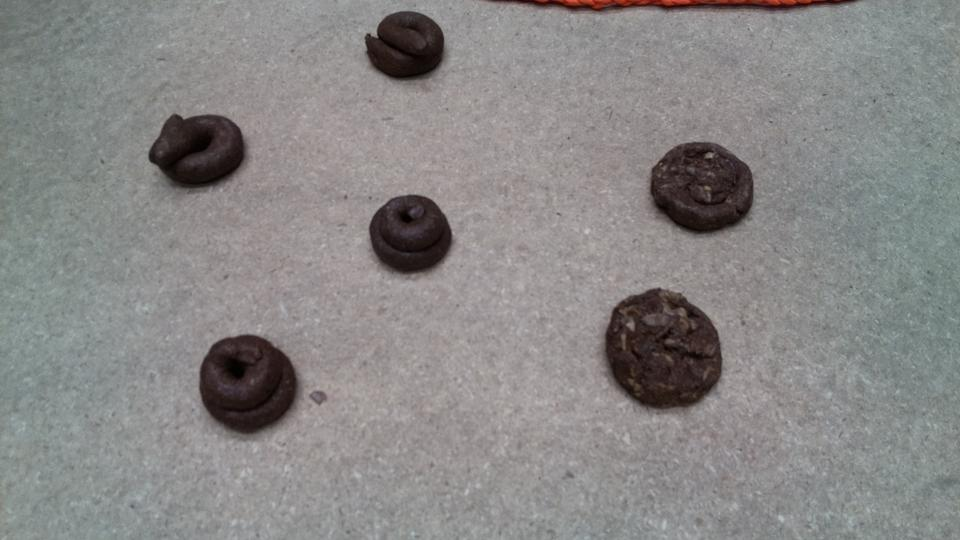poop: (599, 285, 726, 417), (646, 138, 759, 242), (195, 330, 302, 439), (145, 108, 248, 190), (366, 190, 456, 278), (362, 7, 447, 85)
rope: (546, 1, 856, 13)
